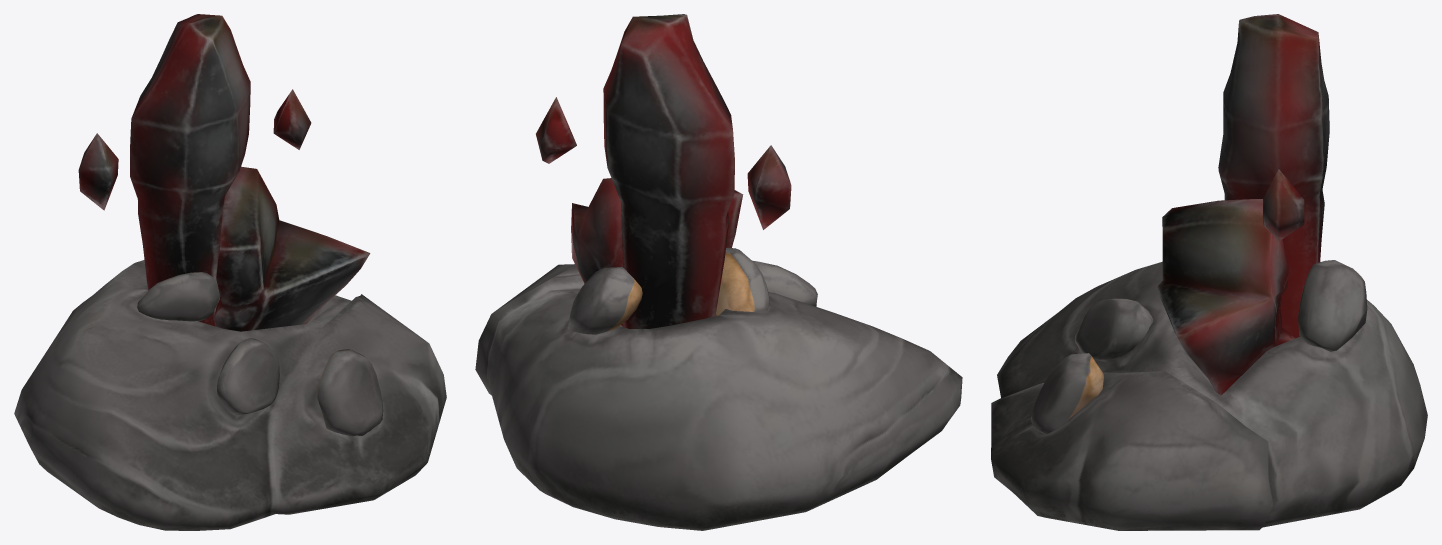
Rendered from ore_deposit_black_dream.glb.
The picture shows the model from 3 angles, left to right: view 1: azimuth 30°, elevation 25°; view 2: azimuth 150°, elevation 25°; view 3: azimuth 270°, elevation 25°; orthographic projection. The views are drawn at different scales.
Visible parts, largest first — view 1: temperate_ore_deposit_black; view 2: temperate_ore_deposit_black; view 3: temperate_ore_deposit_black.
Boxes of the visible parts, box(x1,y1,x2,y2) form: temperate_ore_deposit_black: box(14, 14, 446, 530); temperate_ore_deposit_black: box(475, 14, 962, 530); temperate_ore_deposit_black: box(991, 14, 1427, 530).
Bounding box in the file's own units: 0.2801 × 0.3003 × 0.2669.
1 material, 1 textured.
